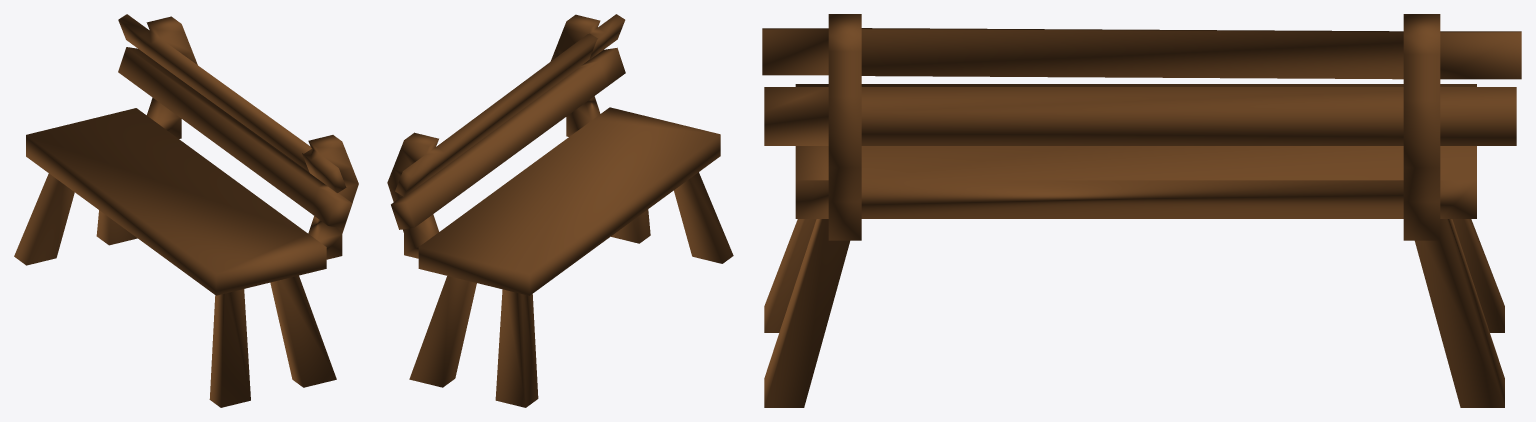
File: bank son.fbx
3 views of the same model, side by side, from view 1: azimuth 30°, elevation 25°; view 2: azimuth 150°, elevation 25°; view 3: azimuth 270°, elevation 25° (orthographic). The views are drawn at different scales.
Visible parts, largest first — view 1: Cube.001; view 2: Cube.001; view 3: Cube.001.
Part boxes in pixels (x1,y1,x2,y2): Cube.001: (14,14,358,407); Cube.001: (387,14,733,407); Cube.001: (762,14,1521,407).
Bounding box in the file's own units: 1673 × 2247 × 3938.
